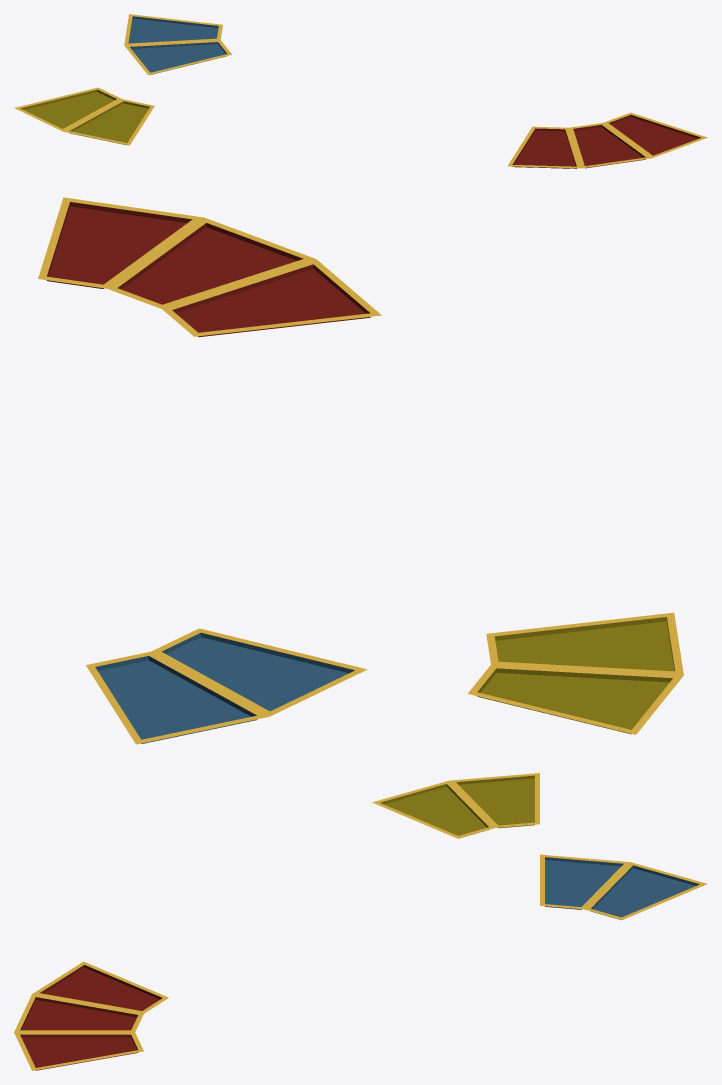
Rendered from sectors.fbx.
3 renders of one model, top to bottom at view 1: azimuth 30°, elevation 25°; view 2: azimuth 150°, elevation 25°; view 3: azimuth 270°, elevation 25°, orthographic. The views are drawn at different scales.
Parts seen in each view (by area): view 1: Attack3, Money2, Shileds2; view 2: Attack3, Shileds2, Money2; view 3: Attack3, Money2, Shileds2.
Part boxes in pixels (x1=…): Attack3: x1=507, y1=112, x2=707, y2=168; Money2: x1=14, y1=87, x2=154, y2=145; Shileds2: x1=124, y1=14, x2=231, y2=75; Attack3: x1=38, y1=197, x2=381, y2=337; Shileds2: x1=86, y1=628, x2=367, y2=744; Money2: x1=468, y1=612, x2=683, y2=734; Attack3: x1=14, y1=961, x2=168, y2=1070; Money2: x1=372, y1=773, x2=539, y2=838; Shileds2: x1=540, y1=854, x2=707, y2=920.
Size of the model in its own units: 1780 by 7.75 by 1752.
